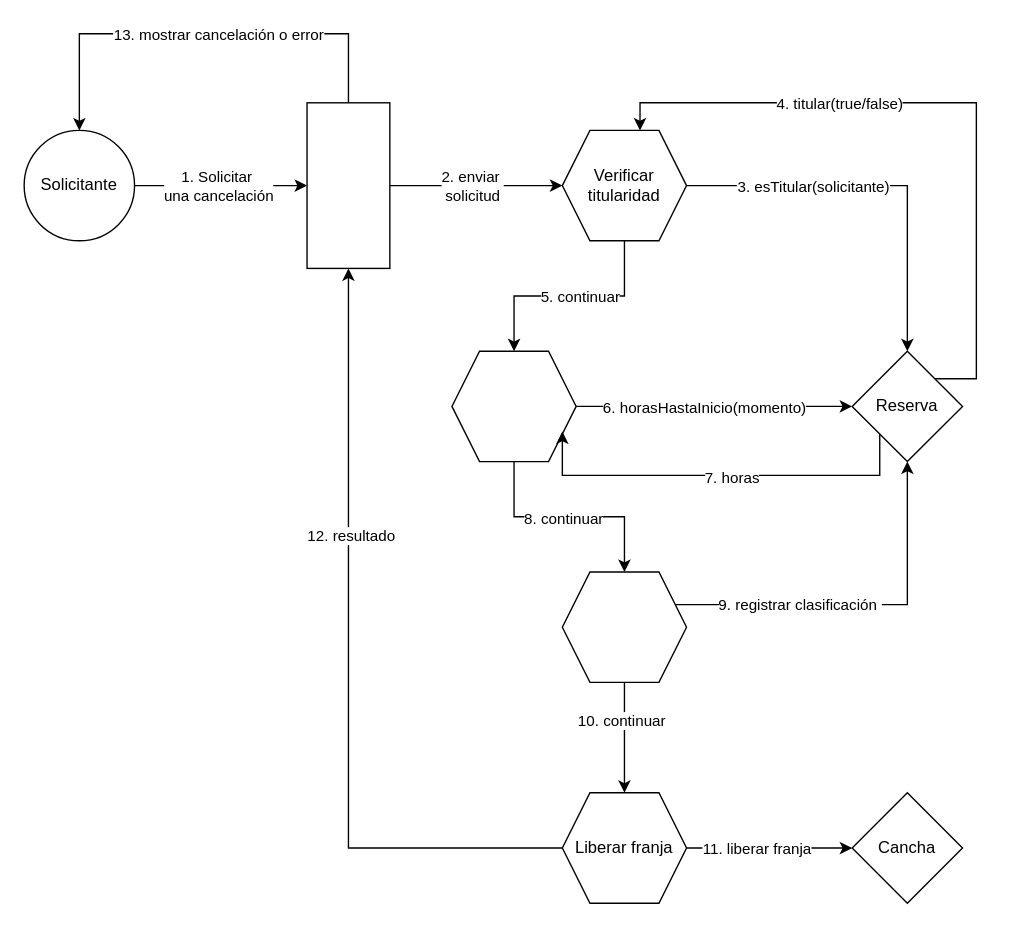
Some shapes in this 1012 by 927 pixel diagram are drawn without their labels. The centre of each missing label's shape, as x and y in pixels:
"Calcular anticipacion" belongs at point 513,406.
"Clasificar cancelacion" belongs at point 624,626.
"Pantalla de cancelación" belongs at point 348,184.
